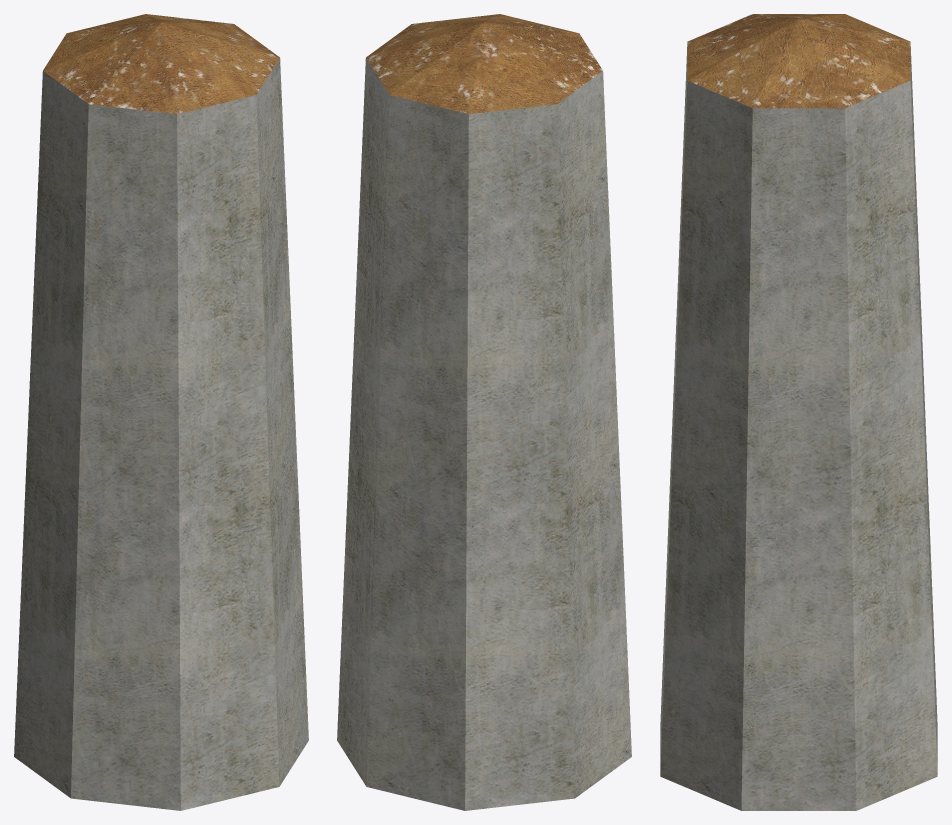
Rendered from mun_all_military_column_med_rebl_s01_l1.fbx.
3 views of the same model, side by side, from view 1: azimuth 30°, elevation 25°; view 2: azimuth 150°, elevation 25°; view 3: azimuth 270°, elevation 25° (orthographic).
Visible parts, largest first — view 1: mesh_node; view 2: mesh_node; view 3: mesh_node.
Part boxes in pixels (x1=…): mesh_node: x1=14, y1=14, x2=308, y2=810; mesh_node: x1=337, y1=14, x2=631, y2=810; mesh_node: x1=660, y1=14, x2=937, y2=810.
Size of the model in its own units: 2.23 by 6.5 by 2.23.
